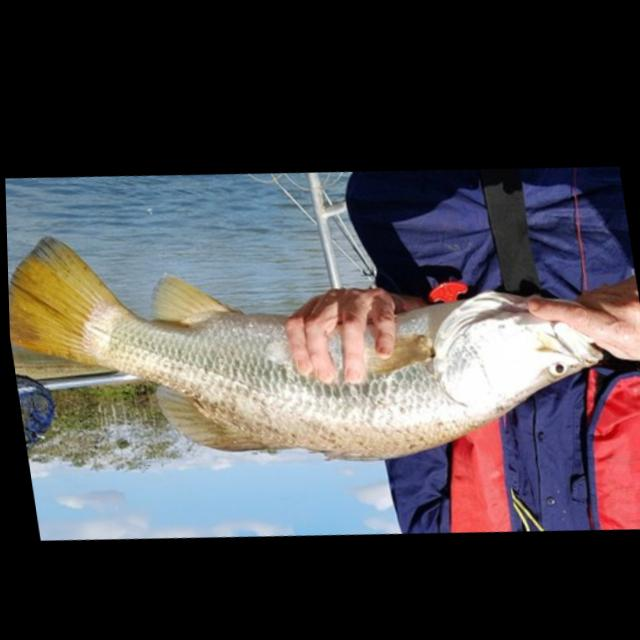Seabass: (5, 166, 620, 533)
